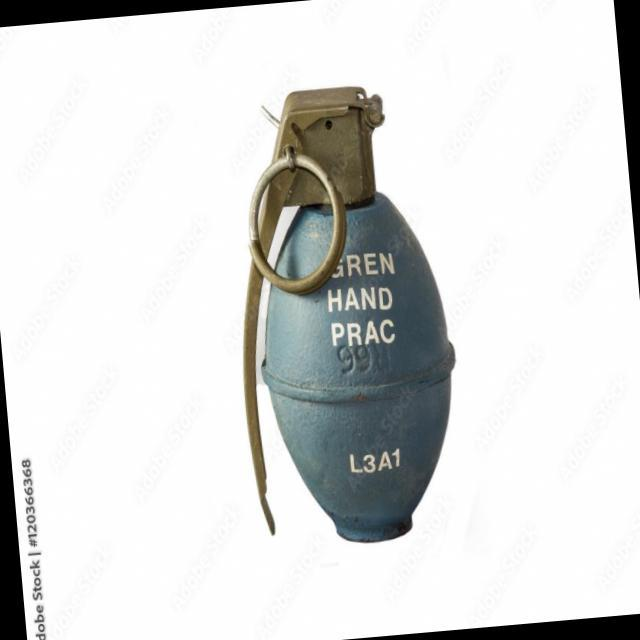grenade: (210, 59, 474, 564)
